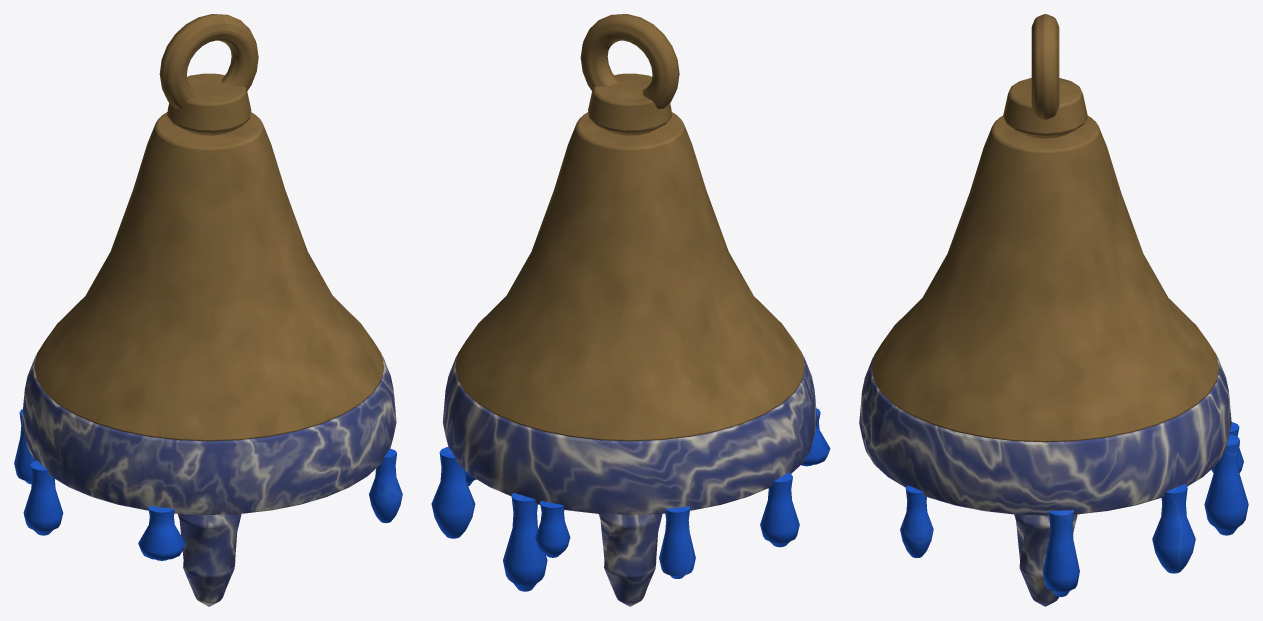
File: bell.glb
3 renders of one model, left to right at view 1: azimuth 30°, elevation 25°; view 2: azimuth 150°, elevation 25°; view 3: azimuth 270°, elevation 25°, orthographic.
Visible parts, largest first — view 1: bell; view 2: bell; view 3: bell.
Boxes of the visible parts, x1,y1,x2,y2 form: bell: (14,14,402,606); bell: (431,14,830,606); bell: (859,14,1248,606).
Size of the model in its own units: 0.3833 by 0.62 by 0.3727.
1 material, 1 textured.
